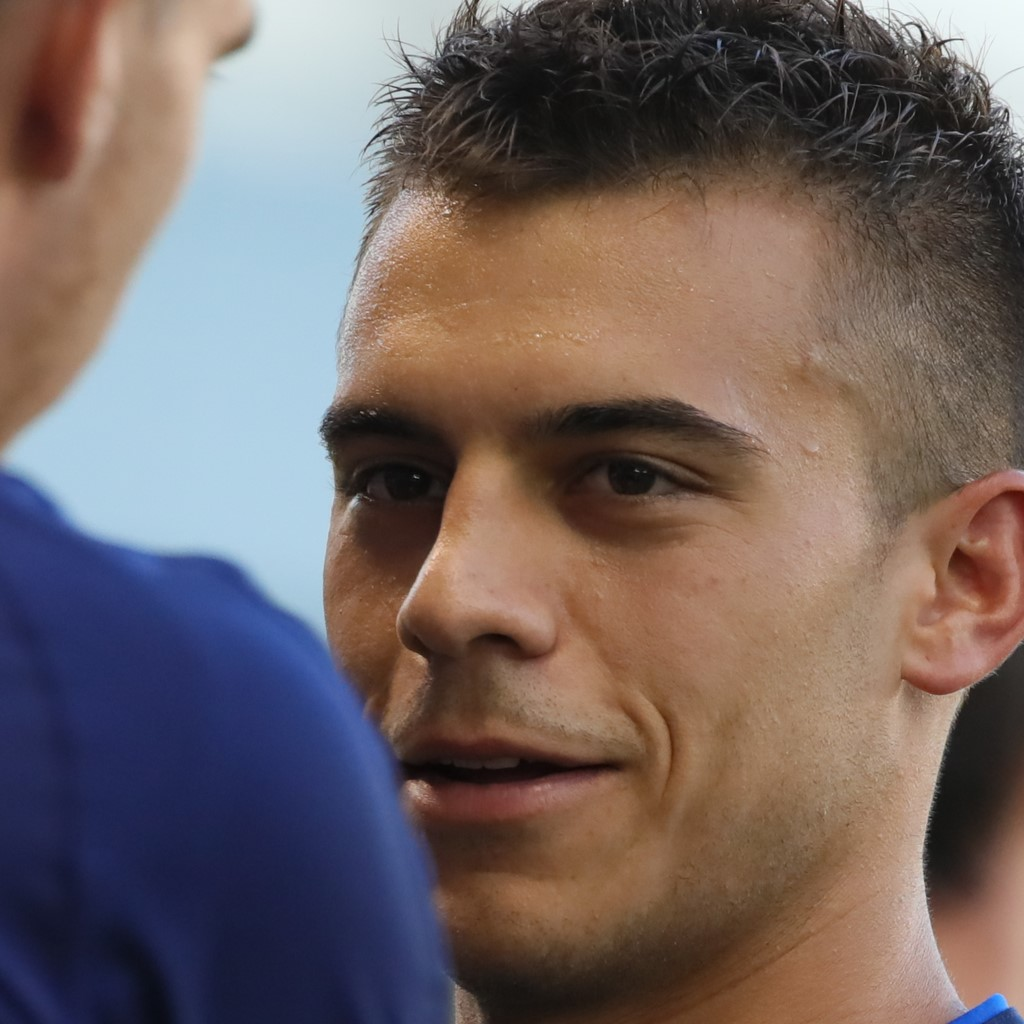sin_mascara: (307, 116, 925, 982)
